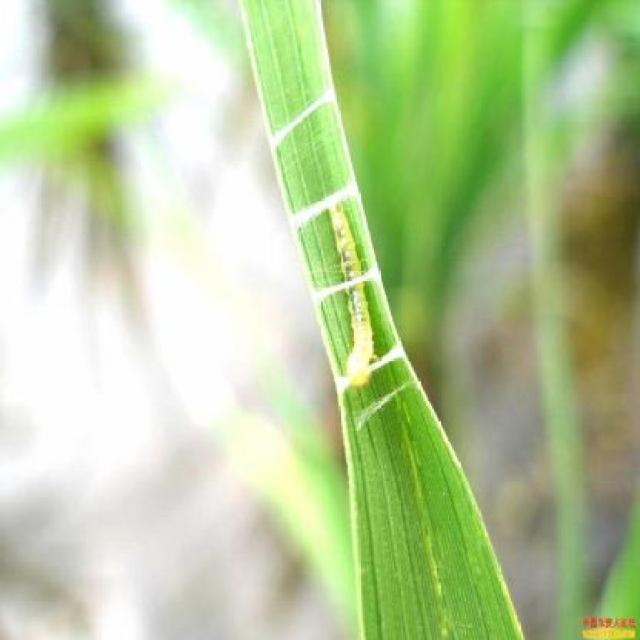leaf-folder: (311, 183, 394, 406)
